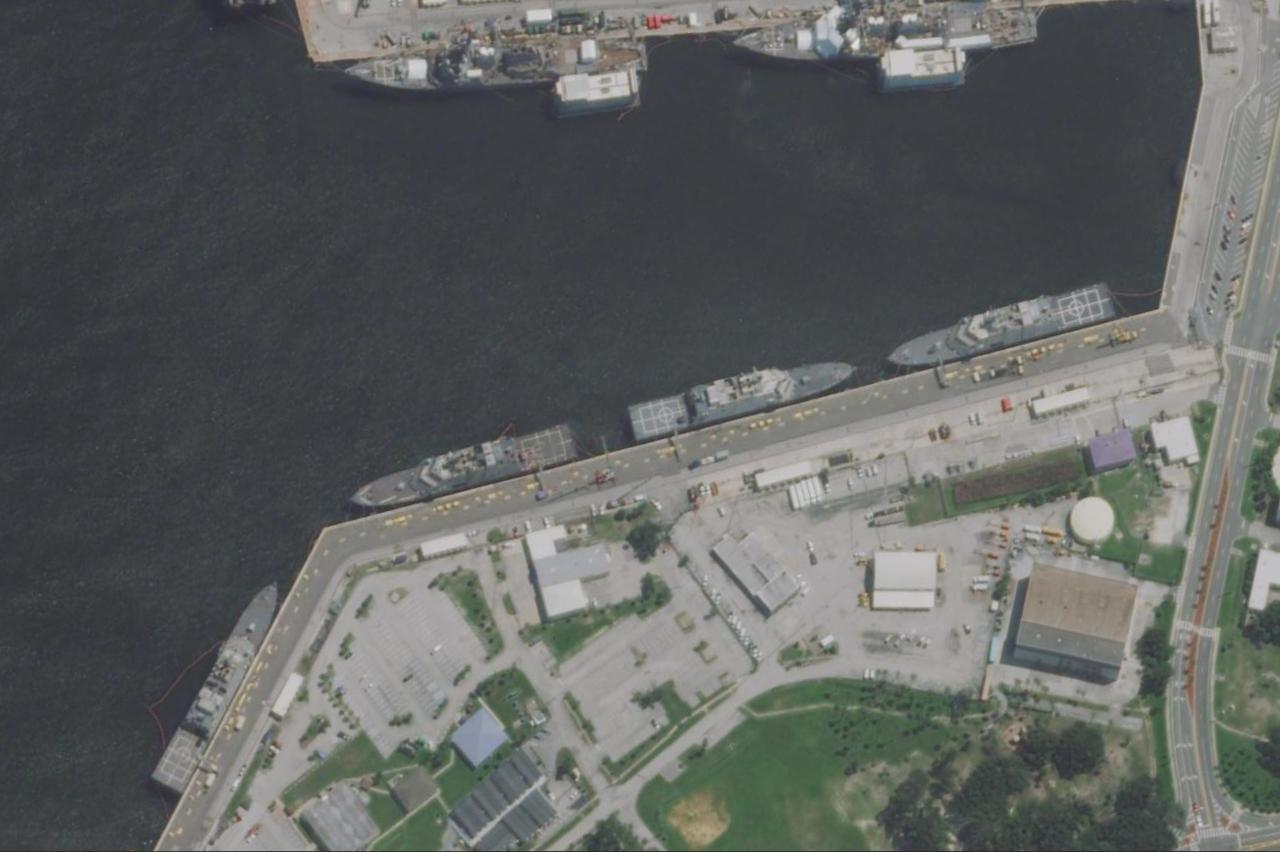patrol: (145, 573, 289, 804), (337, 403, 588, 514), (884, 262, 1124, 376), (625, 333, 864, 444)
